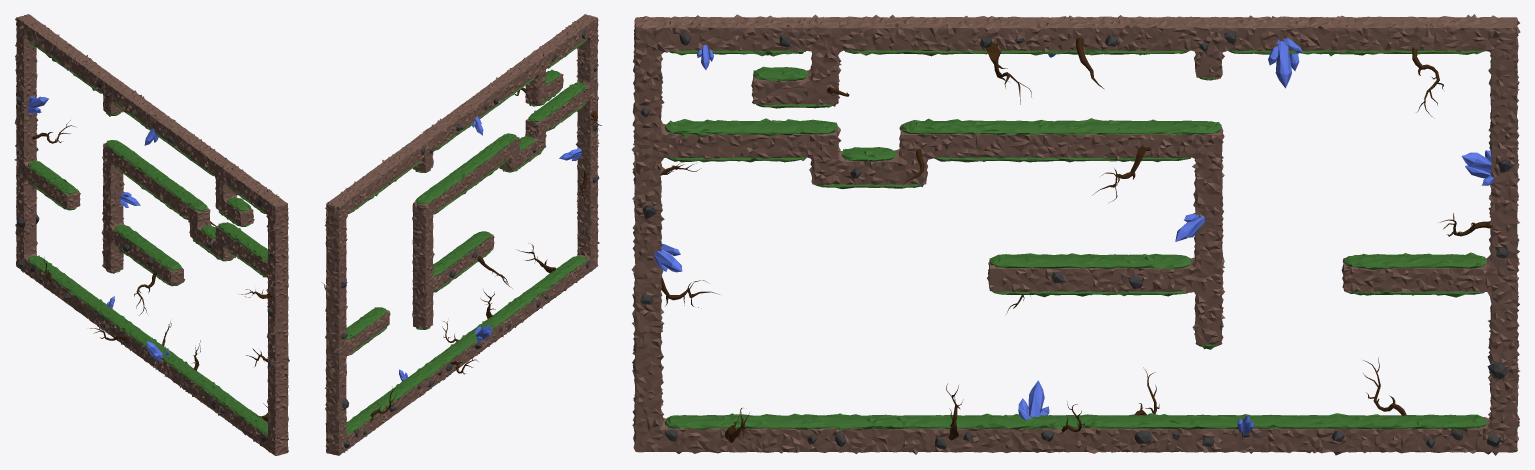
Rendered from Mod_Level2.fbx.
3 renders of one model, left to right at view 1: azimuth 30°, elevation 25°; view 2: azimuth 150°, elevation 25°; view 3: azimuth 270°, elevation 25°, orthographic. The views are drawn at different scales.
Visible parts, largest first — view 1: Level_002_PF.A, Level_002_PF.B, Level_002_Roots, Level_002_Rocks, Level_002_Crystals; view 2: Level_002_PF.A, Level_002_PF.B, Level_002_Roots, Level_002_Rocks, Level_002_Crystals; view 3: Level_002_PF.A, Level_002_PF.B, Level_002_Roots, Level_002_Crystals, Level_002_Rocks.
Part boxes in pixels (left/top/right/bottom): Level_002_PF.A: left=14, top=14, right=288, bottom=455; Level_002_PF.B: left=27, top=39, right=267, bottom=434; Level_002_Roots: left=32, top=119, right=289, bottom=421; Level_002_Rocks: left=16, top=81, right=289, bottom=441; Level_002_Crystals: left=27, top=95, right=168, bottom=361; Level_002_PF.A: left=324, top=14, right=599, bottom=455; Level_002_PF.B: left=346, top=39, right=586, bottom=434; Level_002_Roots: left=321, top=87, right=601, bottom=422; Level_002_Rocks: left=326, top=30, right=599, bottom=448; Level_002_Crystals: left=346, top=116, right=582, bottom=381; Level_002_PF.A: left=631, top=14, right=1520, bottom=455; Level_002_PF.B: left=665, top=49, right=1487, bottom=430; Level_002_Roots: left=661, top=37, right=1492, bottom=443; Level_002_Crystals: left=654, top=38, right=1494, bottom=434; Level_002_Rocks: left=640, top=32, right=1512, bottom=449.
Size of the model in its own units: 5.71 by 16.17 by 30.11.
